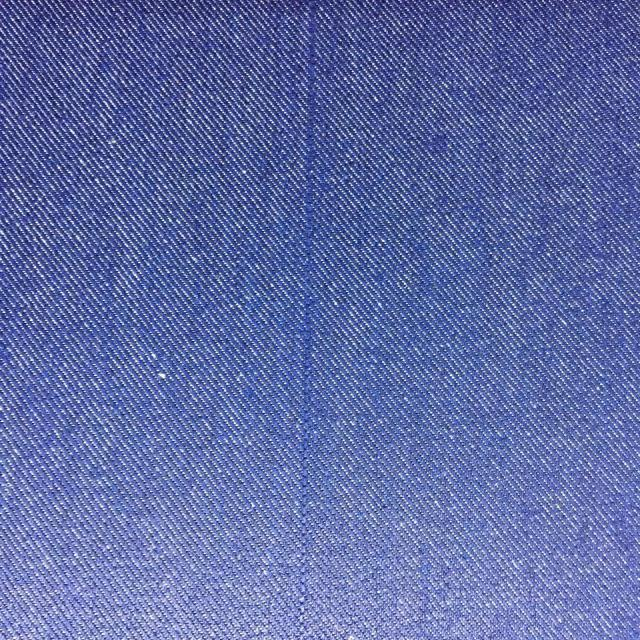Line: (296, 1, 324, 514)
